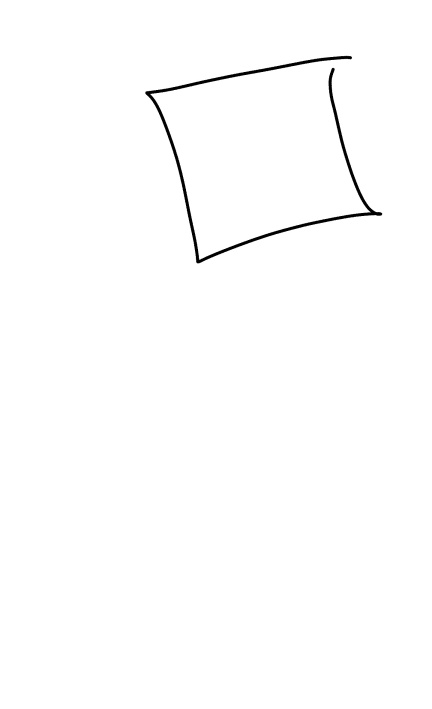Square: (142, 53, 385, 265)
